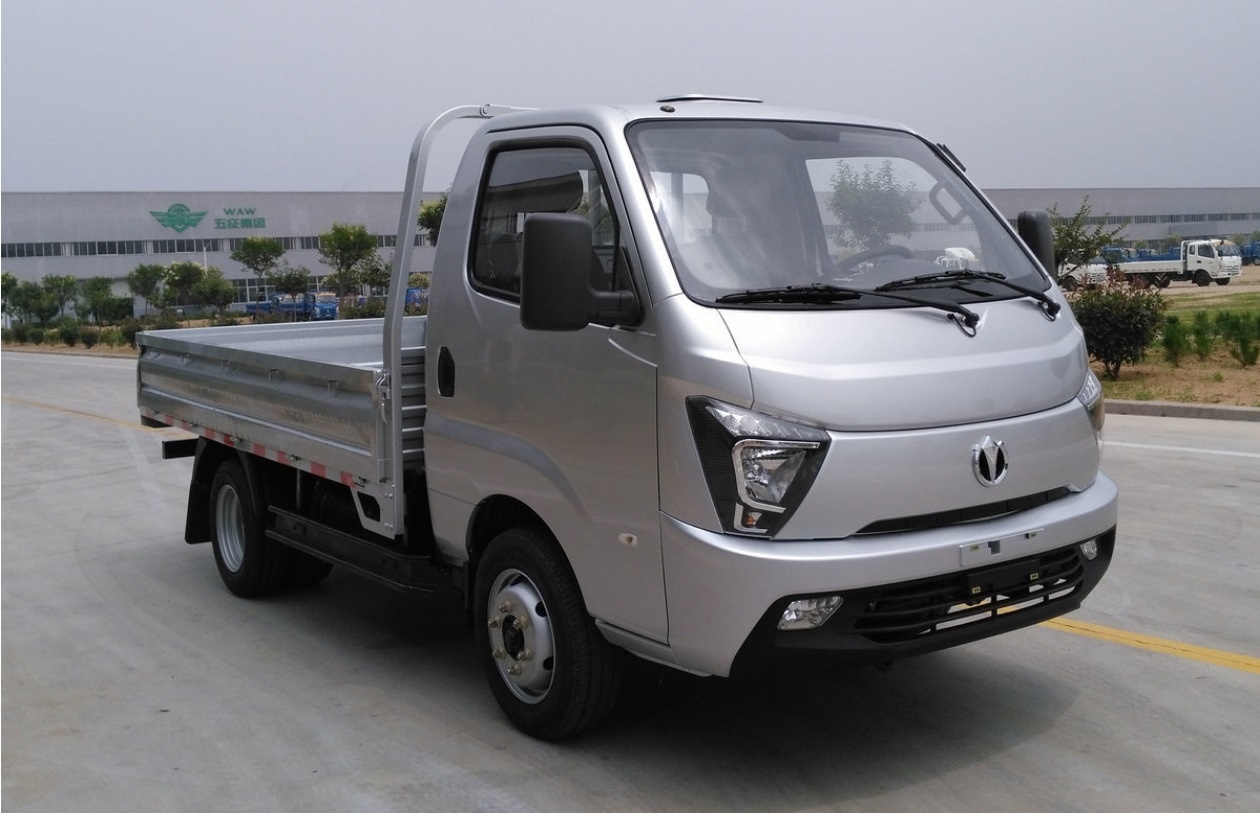truck: (131, 103, 1136, 755)
